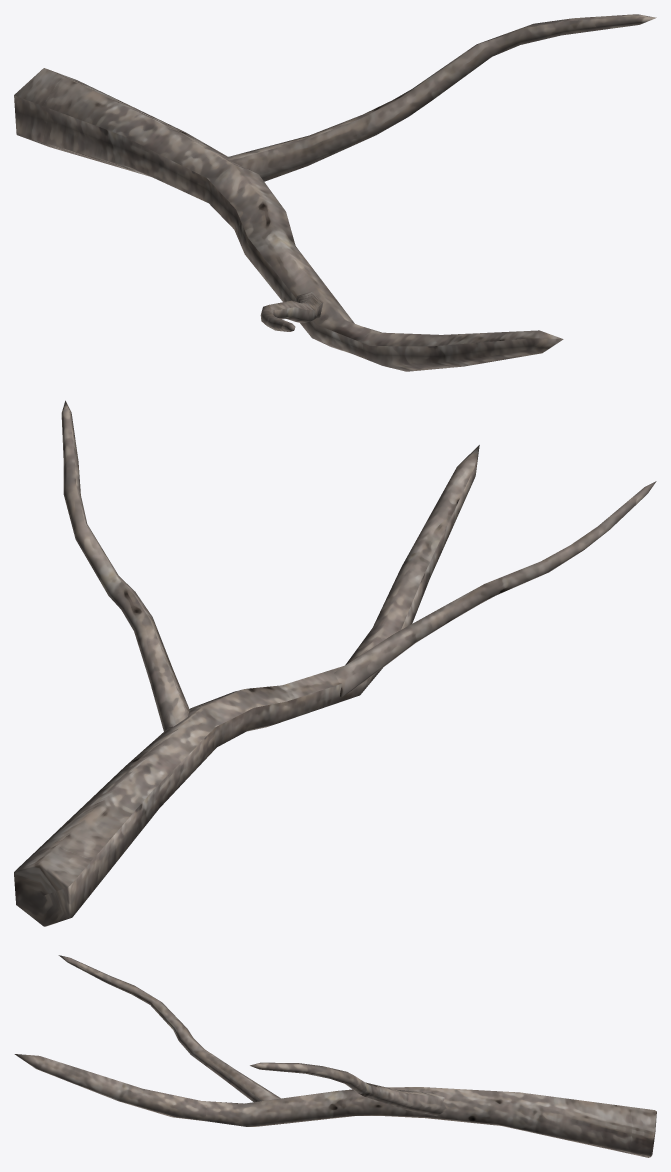
Rendered from SM_BeechStickA_1.fbx.
3 renders of one model, top to bottom at view 1: azimuth 30°, elevation 25°; view 2: azimuth 150°, elevation 25°; view 3: azimuth 270°, elevation 25°, orthographic. The views are drawn at different scales.
Parts seen in each view (by area): view 1: BranchSmall_2; view 2: BranchSmall_2; view 3: BranchSmall_2.
Boxes of the visible parts, bbox=[...] form: BranchSmall_2: bbox=[14, 14, 656, 371]; BranchSmall_2: bbox=[14, 400, 656, 926]; BranchSmall_2: bbox=[14, 955, 656, 1157].
Bounding box in the file's own units: 1.36 × 0.7297 × 2.33.
